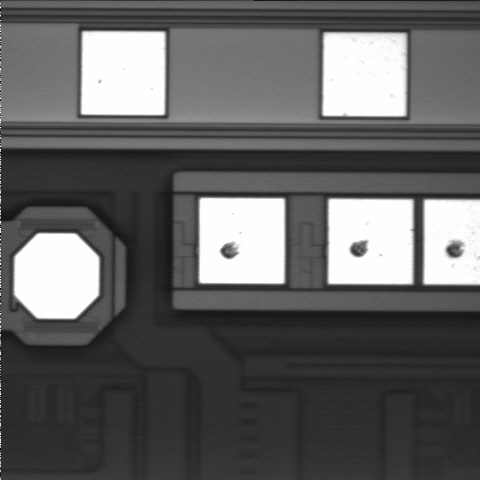pad: (199, 198, 284, 284), (328, 199, 413, 284), (14, 234, 99, 319), (81, 32, 165, 115), (323, 33, 406, 116)
